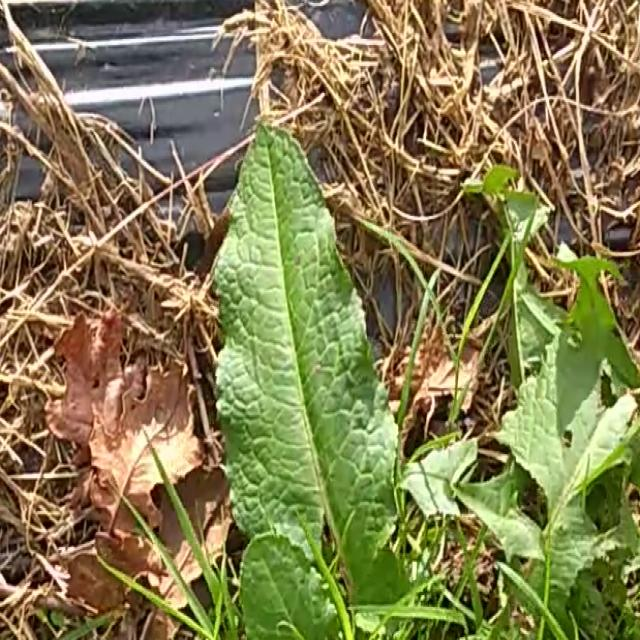organic waste: (185, 105, 640, 640)
